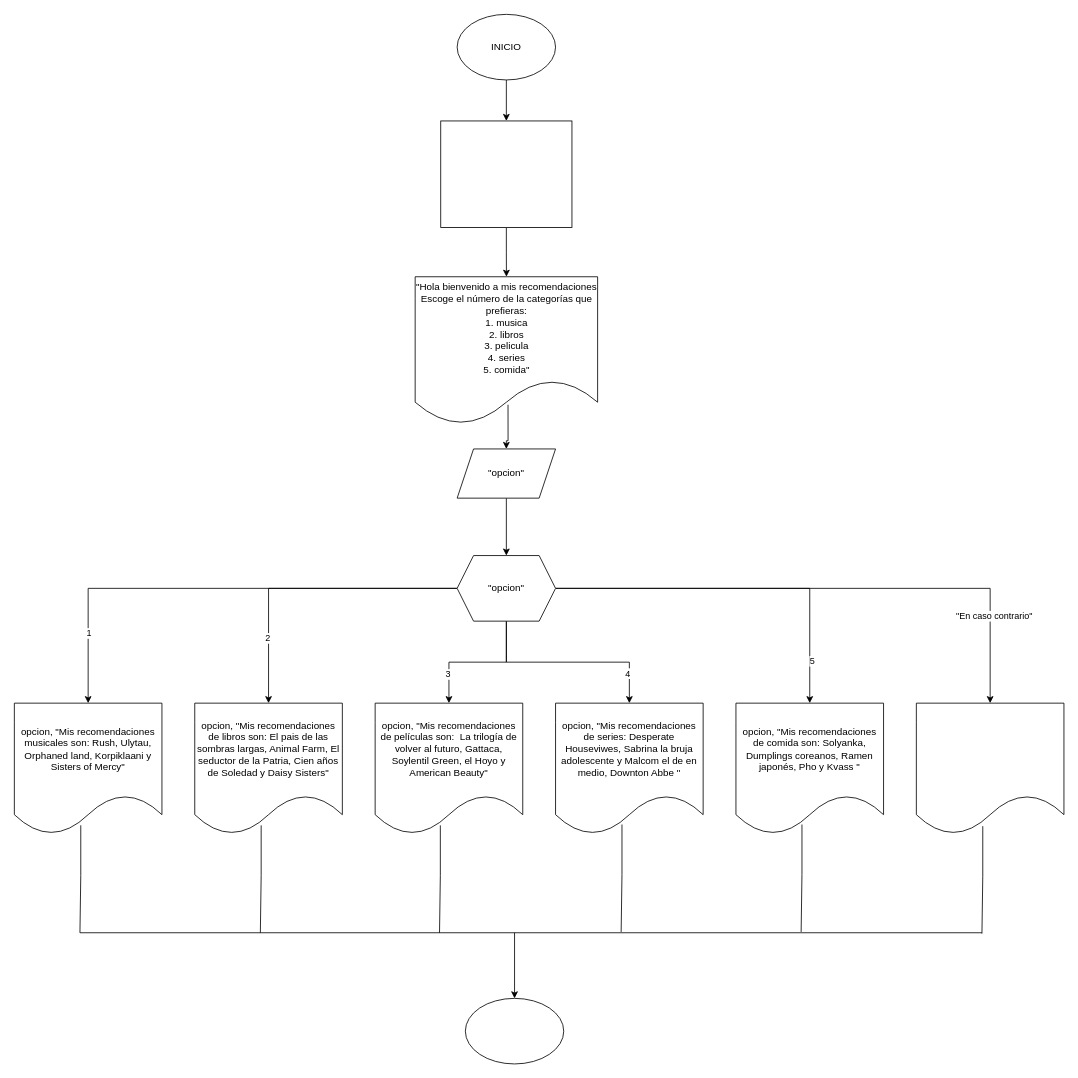
Image size: 1078x1078. Some labels were removed from this diagram. The shapes that lost their labels are listed below. From the top down, each one's centre as x and y in pixels, then its label:
the point at 506,174: opcion Como Entero
the point at 990,768: opcion, "NO VÁLIDA"
the point at 514,1031: FIN
